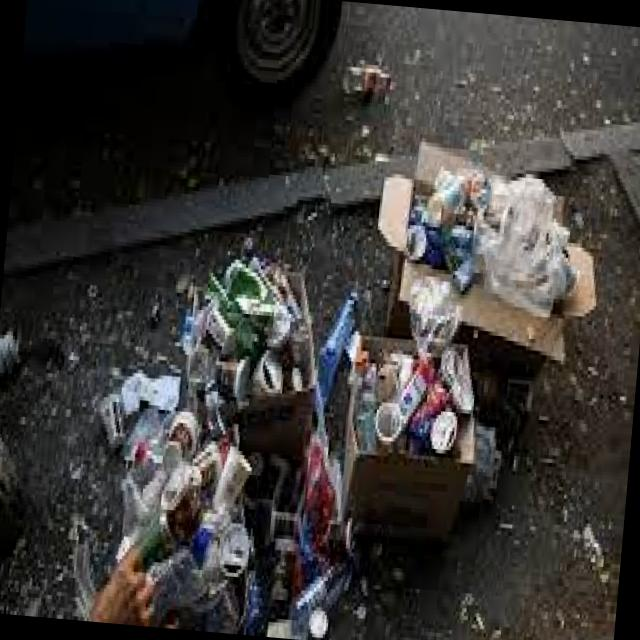garbage: (87, 140, 606, 640)
